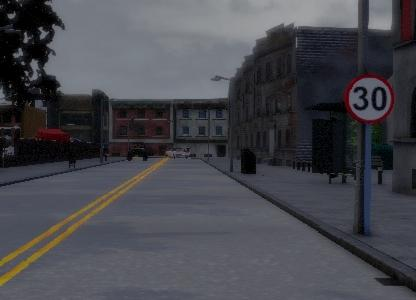Speed_30: (343, 71, 396, 125)
